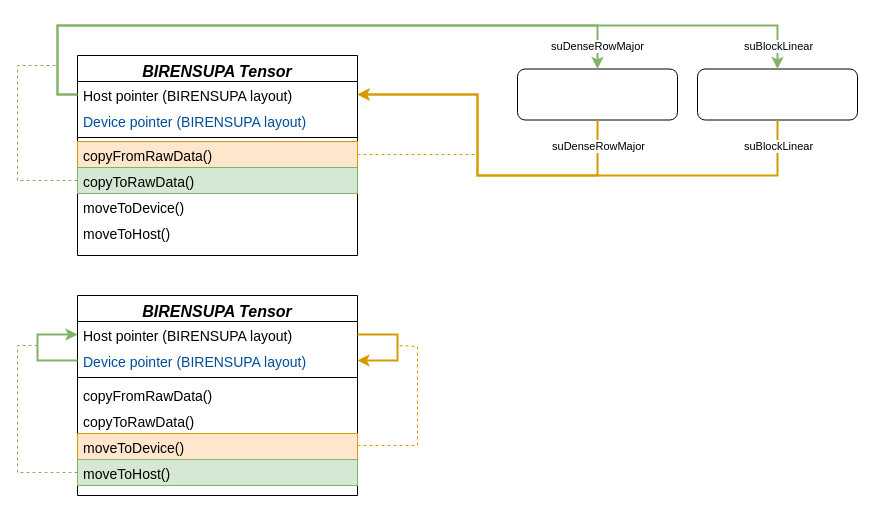
Some shapes in this 875 by 513 pixel diagram are drawn without their labels. The centre of each missing label's shape, as x and y in pixels:
"External host pointer (BIRENSUPA layout)" belongs at (777,94).
"External host pointer (Dense layout)" belongs at (597,94).
